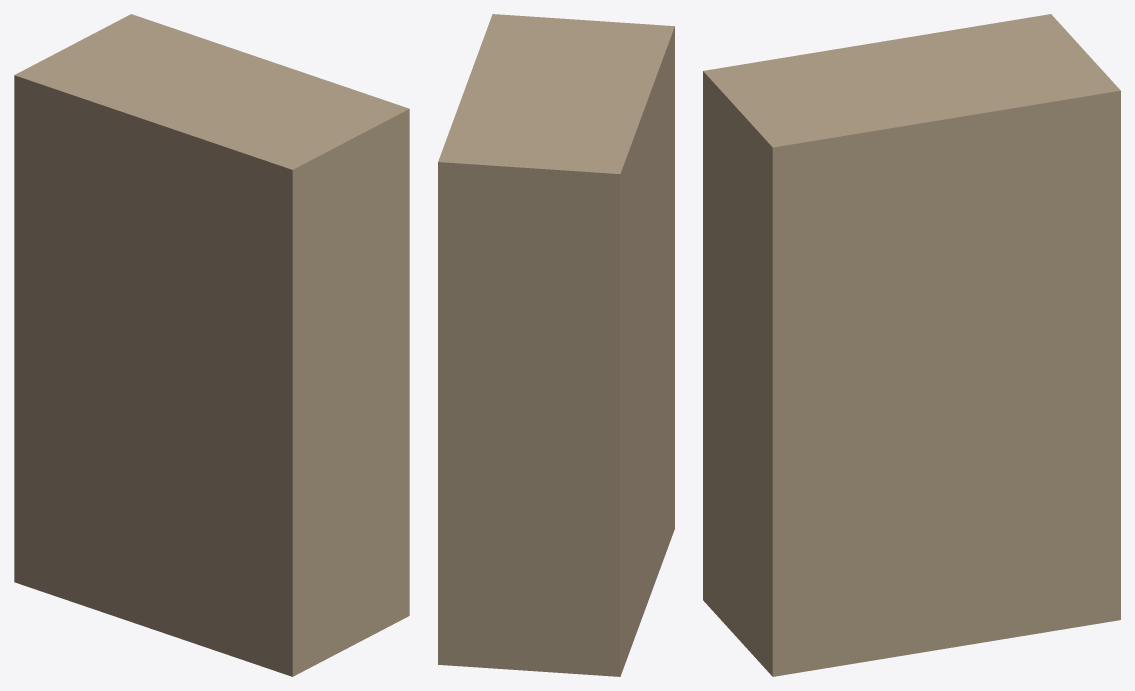
File: bld_106796746.dae
3 views of the same model, side by side, from view 1: azimuth 30°, elevation 25°; view 2: azimuth 150°, elevation 25°; view 3: azimuth 270°, elevation 25° (orthographic). The views are drawn at different scales.
Parts seen in each view (by area): view 1: bld_106796746; view 2: bld_106796746; view 3: bld_106796746.
Boxes of the visible parts, x1,y1,x2,y2 form: bld_106796746: (14,14,409,676); bld_106796746: (438,14,674,676); bld_106796746: (703,14,1120,676).
Bounding box in the file's own units: 4.33 × 5.72 × 8.
